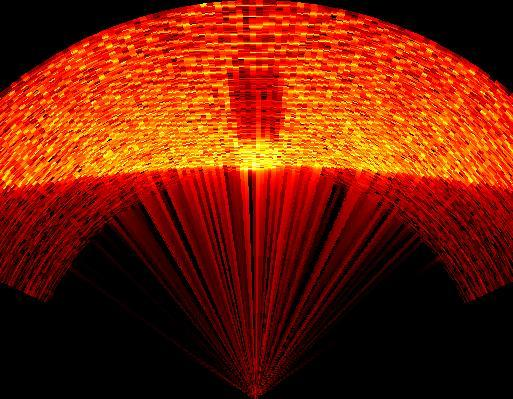box_crate: (222, 63, 290, 173)
